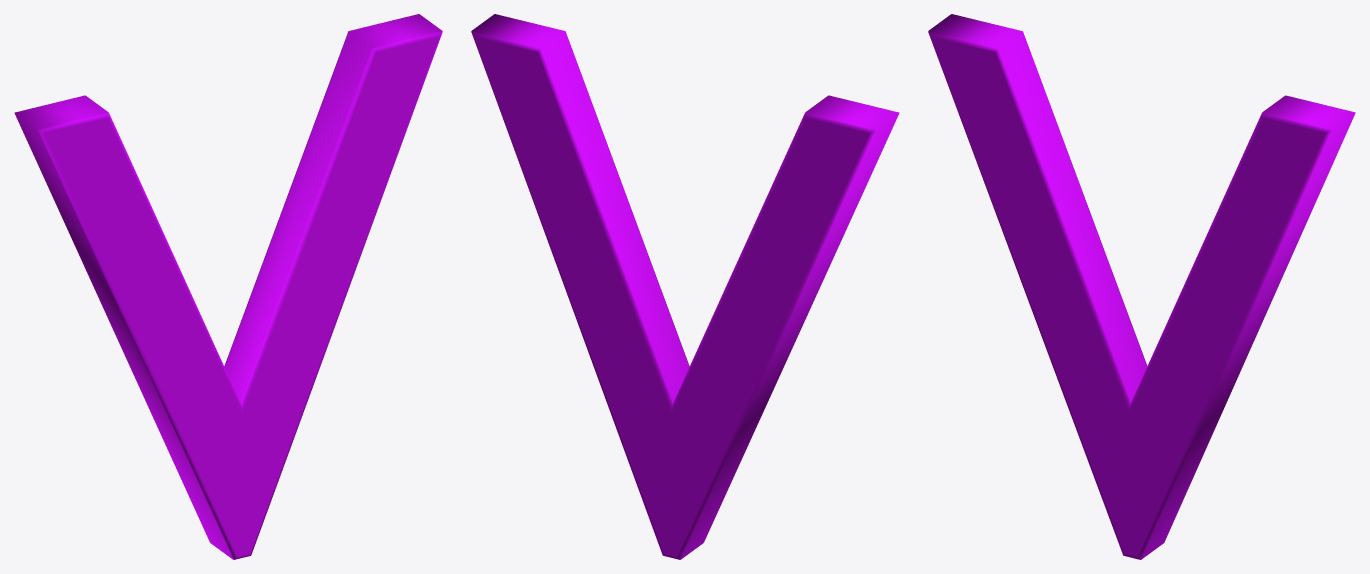
The picture shows the model from 3 angles, left to right: view 1: azimuth 30°, elevation 25°; view 2: azimuth 150°, elevation 25°; view 3: azimuth 330°, elevation 25°; orthographic projection.
Parts seen in each view (by area): view 1: VV; view 2: VV; view 3: VV.
Part boxes in pixels (<box>): VV: <box>14,14,442,559</box>; VV: <box>471,14,899,559</box>; VV: <box>928,14,1355,559</box>.
Size of the model in its own units: 0.4435 by 0.5 by 0.0501.
